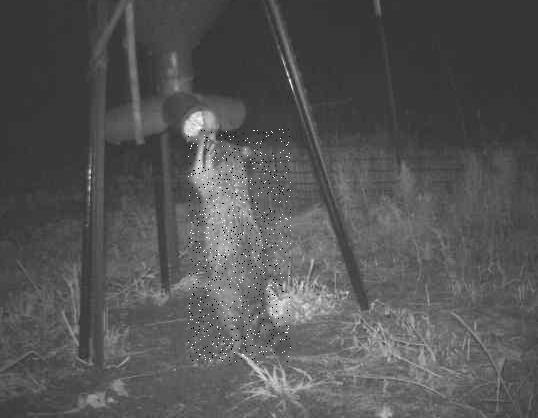Raccoon: (188, 130, 291, 363)
